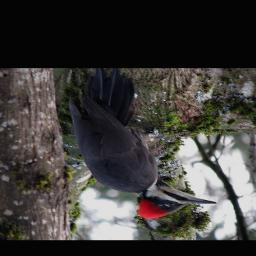Woodpecker: (62, 72, 220, 221)
